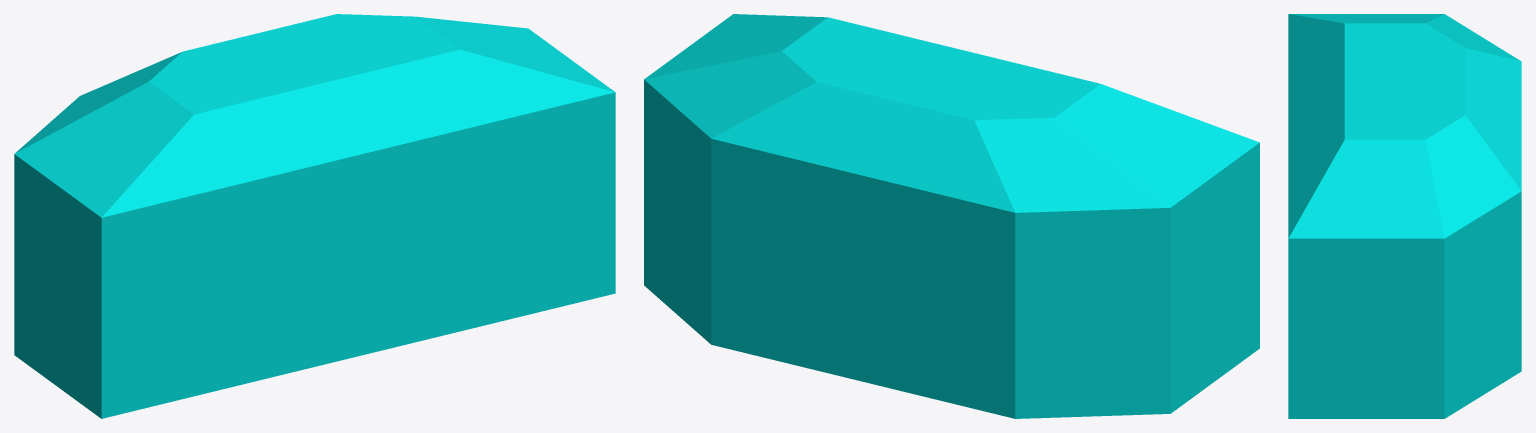
Rendered from Attachment_Type0_B.fbx.
The picture shows the model from 3 angles, left to right: view 1: azimuth 30°, elevation 25°; view 2: azimuth 150°, elevation 25°; view 3: azimuth 270°, elevation 25°; orthographic projection. The views are drawn at different scales.
Visible parts, largest first — view 1: Attachment_Type0_B; view 2: Attachment_Type0_B; view 3: Attachment_Type0_B.
Boxes of the visible parts, x1,y1,x2,y2 form: Attachment_Type0_B: (14, 14, 615, 418); Attachment_Type0_B: (644, 14, 1259, 418); Attachment_Type0_B: (1288, 14, 1521, 418).
Bounding box in the file's own units: 4.99 × 2.33 × 2.19.
